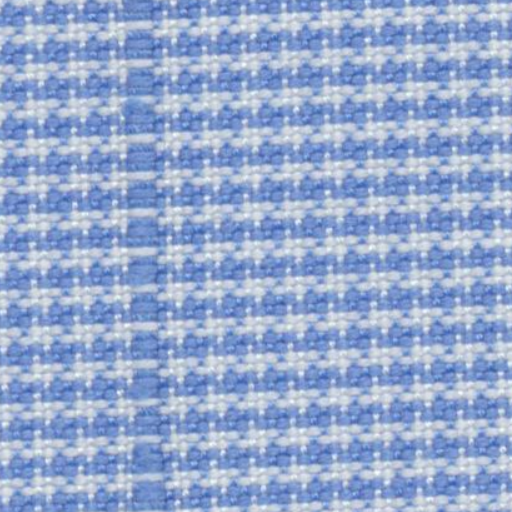TuoSha: (76, 26, 218, 500)
